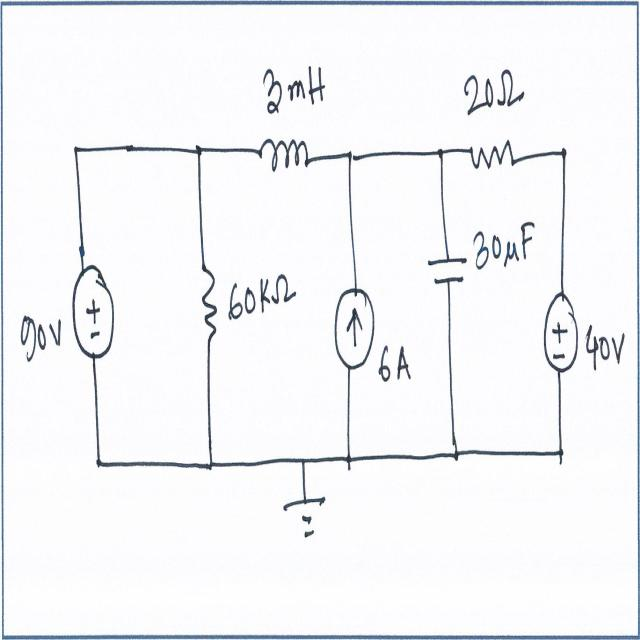capacitor: (424, 247, 469, 290)
current_source: (331, 279, 376, 376)
ground: (275, 482, 329, 544)
inductor: (255, 130, 313, 176)
resistor: (197, 245, 220, 352), (467, 138, 519, 176)
voltage_source: (67, 258, 116, 368), (539, 279, 582, 378)
